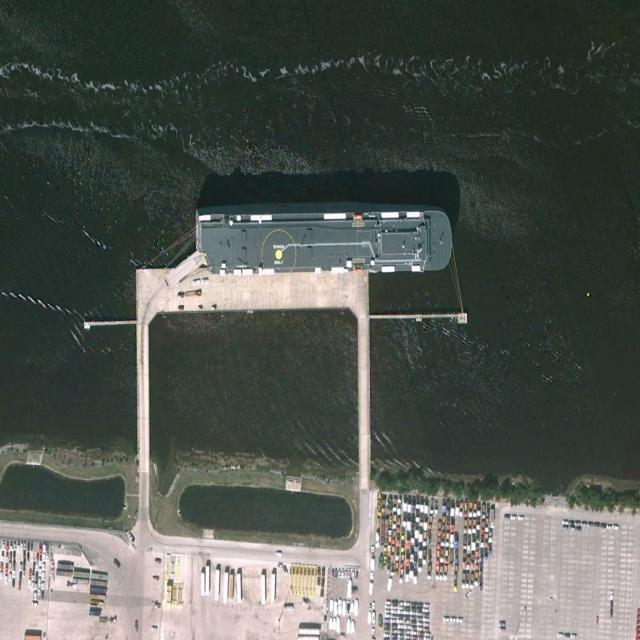RoRo: (195, 203, 453, 273)
